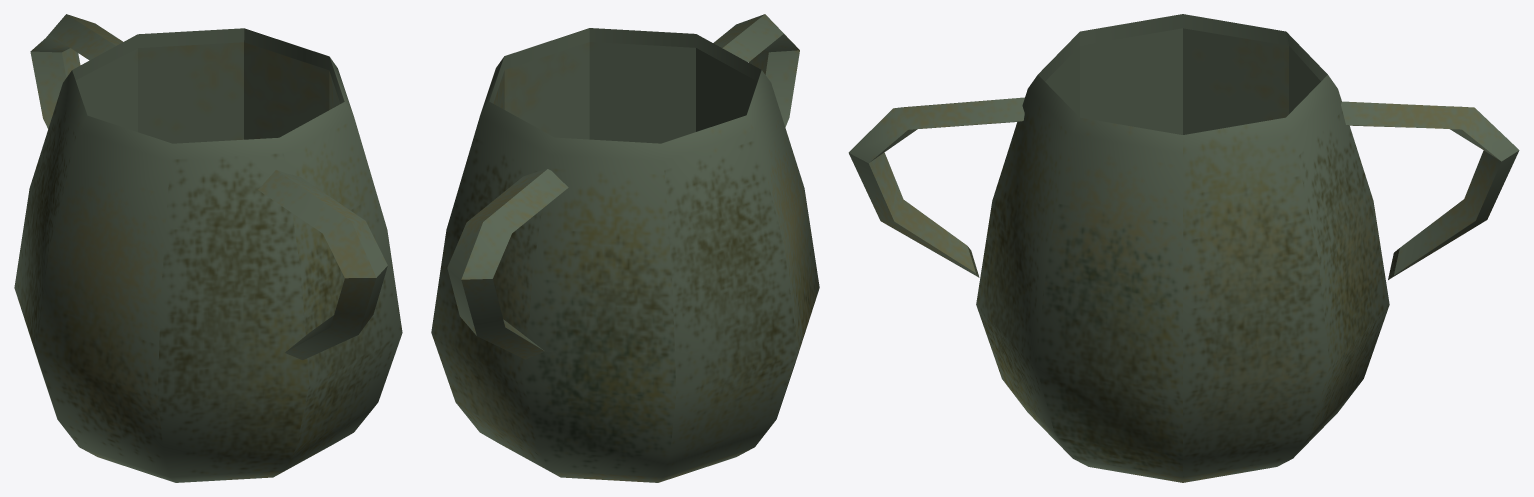
File: Vase_With_Handles_with Textures.FBX
3 renders of one model, left to right at view 1: azimuth 30°, elevation 25°; view 2: azimuth 150°, elevation 25°; view 3: azimuth 270°, elevation 25°, orthographic. The views are drawn at different scales.
Parts seen in each view (by area): view 1: Vase003; view 2: Vase003; view 3: Vase003.
Boxes of the visible parts, box(x1,y1,x2,y2) form: Vase003: box(14, 14, 402, 482); Vase003: box(431, 14, 819, 482); Vase003: box(848, 14, 1519, 482).
Bounding box in the file's own units: 9.22 × 8.95 × 15.14.
